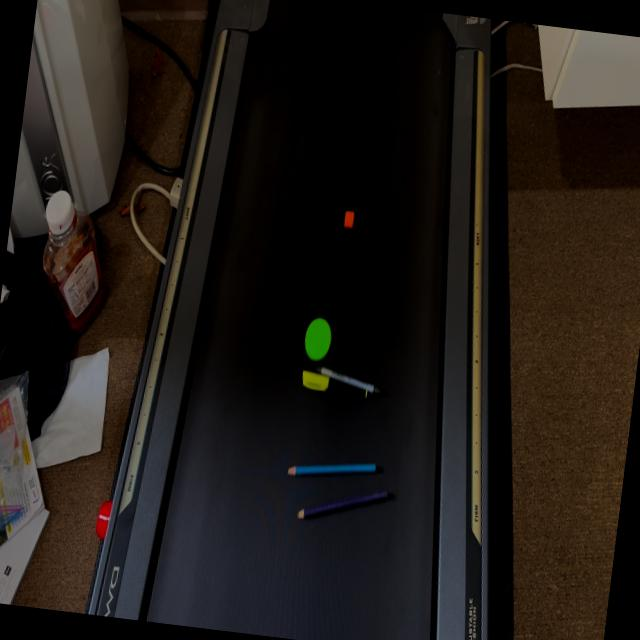Trash: (294, 316, 390, 409), (294, 486, 396, 539), (284, 453, 379, 491), (342, 208, 357, 233)
